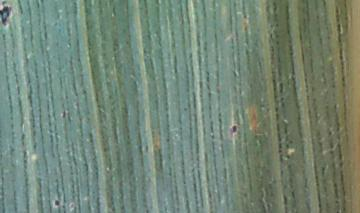tarspot: (1, 2, 12, 29), (52, 197, 61, 208), (230, 123, 239, 134), (68, 201, 75, 209)
